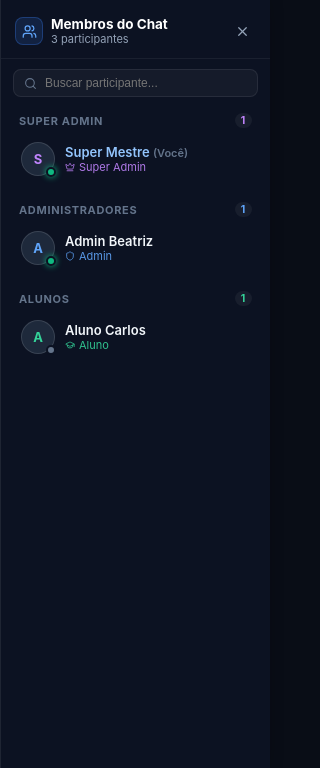
Test case: ChatMembersSidebar Component › filtra participantes em tempo real com o campo de busca
The image size is (320, 768).
Check: the text "Aluno Carlos" is shown, box left=65, top=322, right=146, bottom=338
Type "Beatriz" into the field with test id "members-search-input" at x=146, y=83, box left=45, top=76, right=247, bottom=90
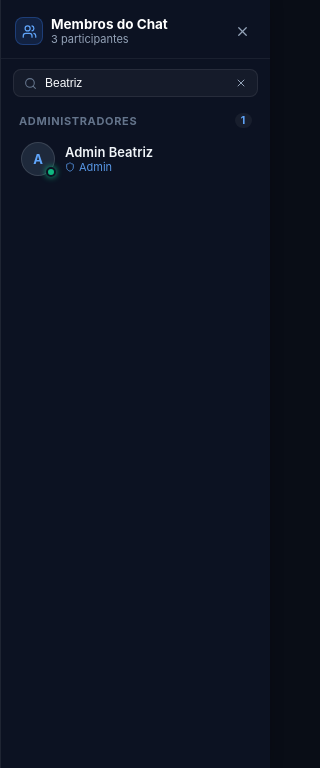
Check: the text "Admin Beatriz" is shown, box left=65, top=144, right=153, bottom=160
Check: the text "Aluno Carlos" is gone
